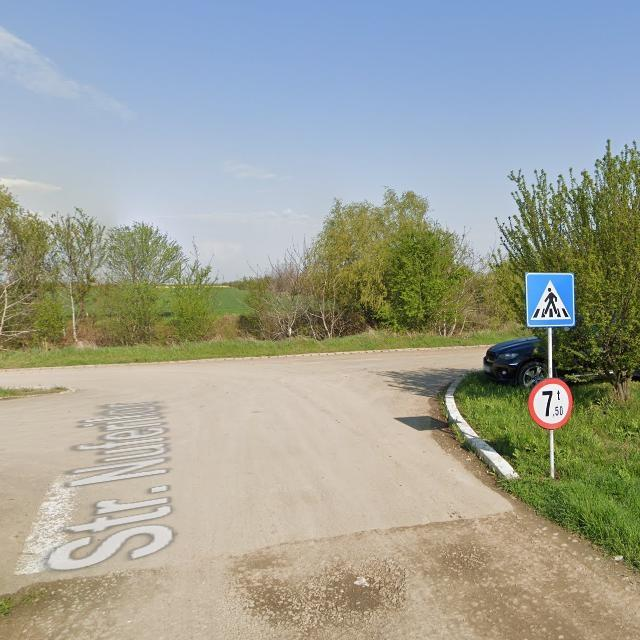info_crosswalk: (524, 273, 576, 327)
